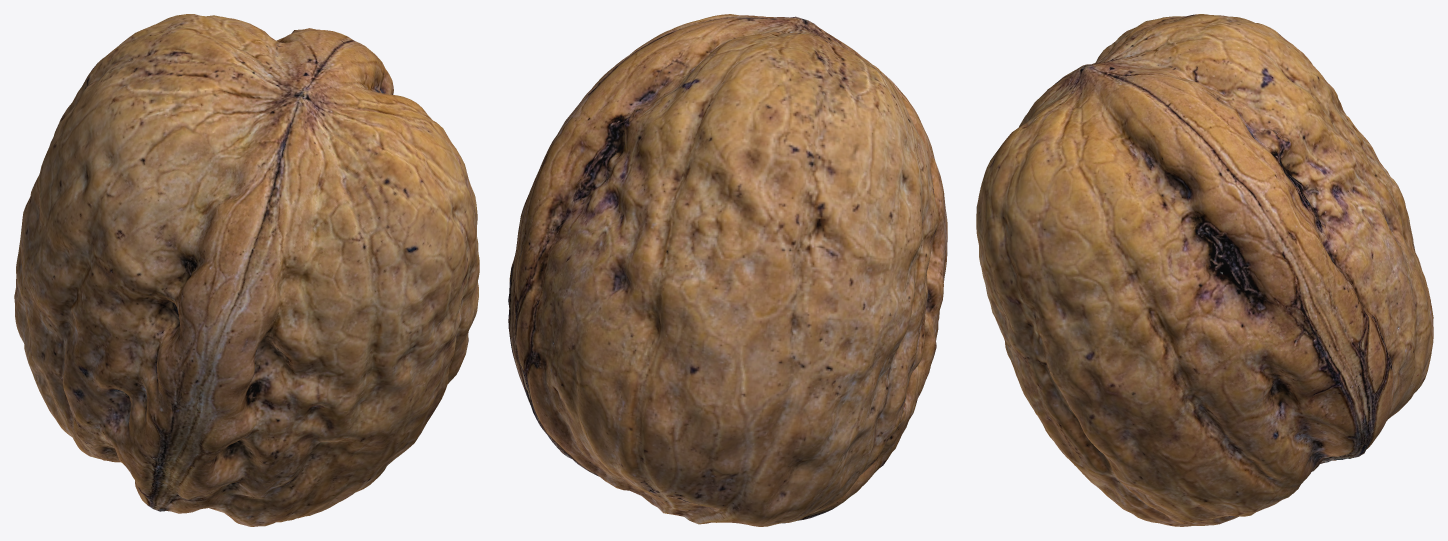
3 renders of one model, left to right at view 1: azimuth 30°, elevation 25°; view 2: azimuth 150°, elevation 25°; view 3: azimuth 270°, elevation 25°, orthographic. The views are drawn at different scales.
Visible parts, largest first — view 1: Object_2; view 2: Object_2; view 3: Object_2.
Boxes of the visible parts, left/top/right/bottom form: Object_2: left=14, top=14, right=479, bottom=526; Object_2: left=508, top=14, right=947, bottom=526; Object_2: left=976, top=14, right=1433, bottom=526.
Size of the model in its own units: 0.0308 by 0.0379 by 0.0341.
1 material, 1 textured.
